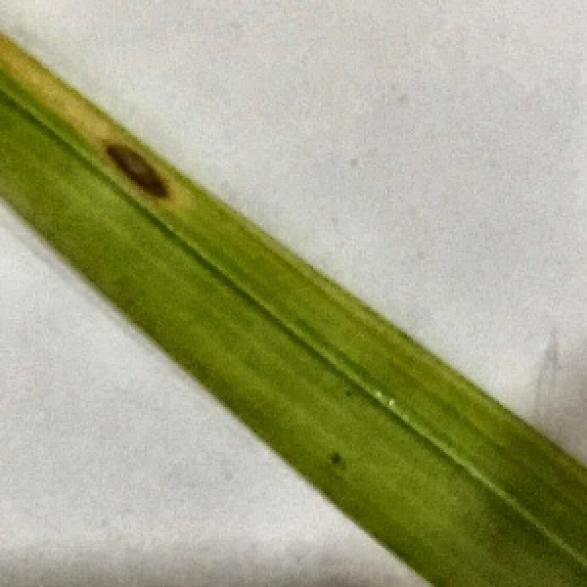Leaf_smut: (94, 129, 182, 206)
